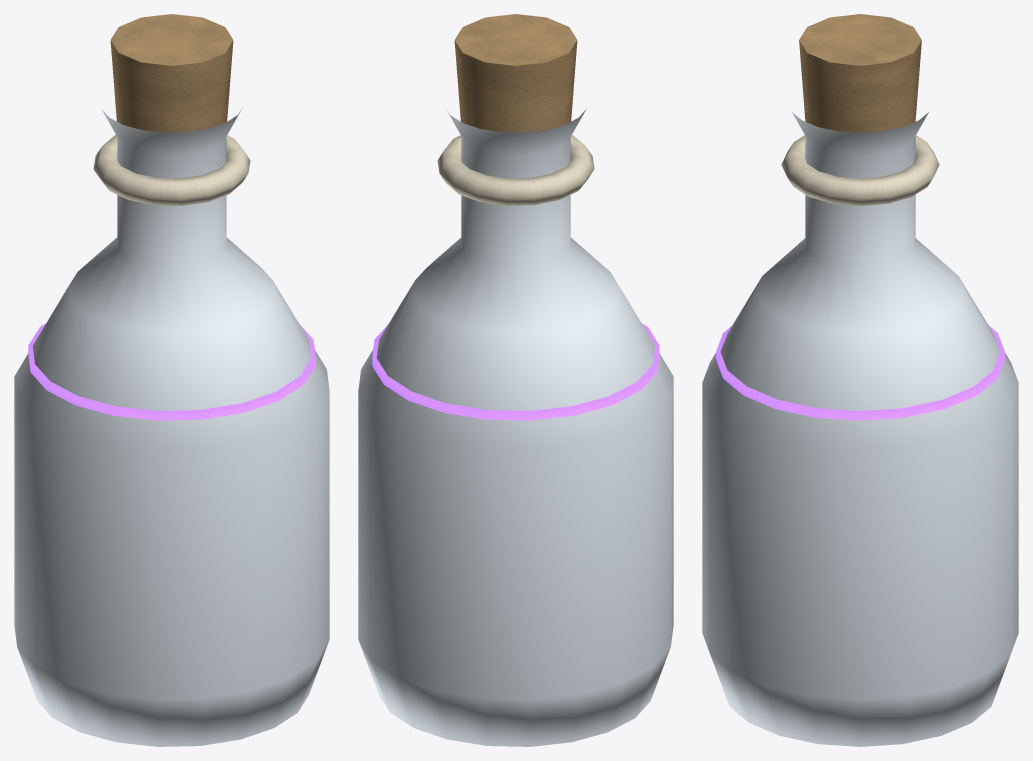
File: nightsight_potion.glb
3 renders of one model, left to right at view 1: azimuth 30°, elevation 25°; view 2: azimuth 150°, elevation 25°; view 3: azimuth 270°, elevation 25°, orthographic.
Visible parts, largest first — view 1: nightsight_potion; view 2: nightsight_potion; view 3: nightsight_potion.
Boxes of the visible parts, x1=… form: nightsight_potion: x1=14, y1=14, x2=329, y2=746; nightsight_potion: x1=358, y1=14, x2=673, y2=746; nightsight_potion: x1=702, y1=14, x2=1018, y2=746.
Bounding box in the file's own units: 0.092 × 0.21 × 0.092.
Materials: 5 (2 with a texture image).
